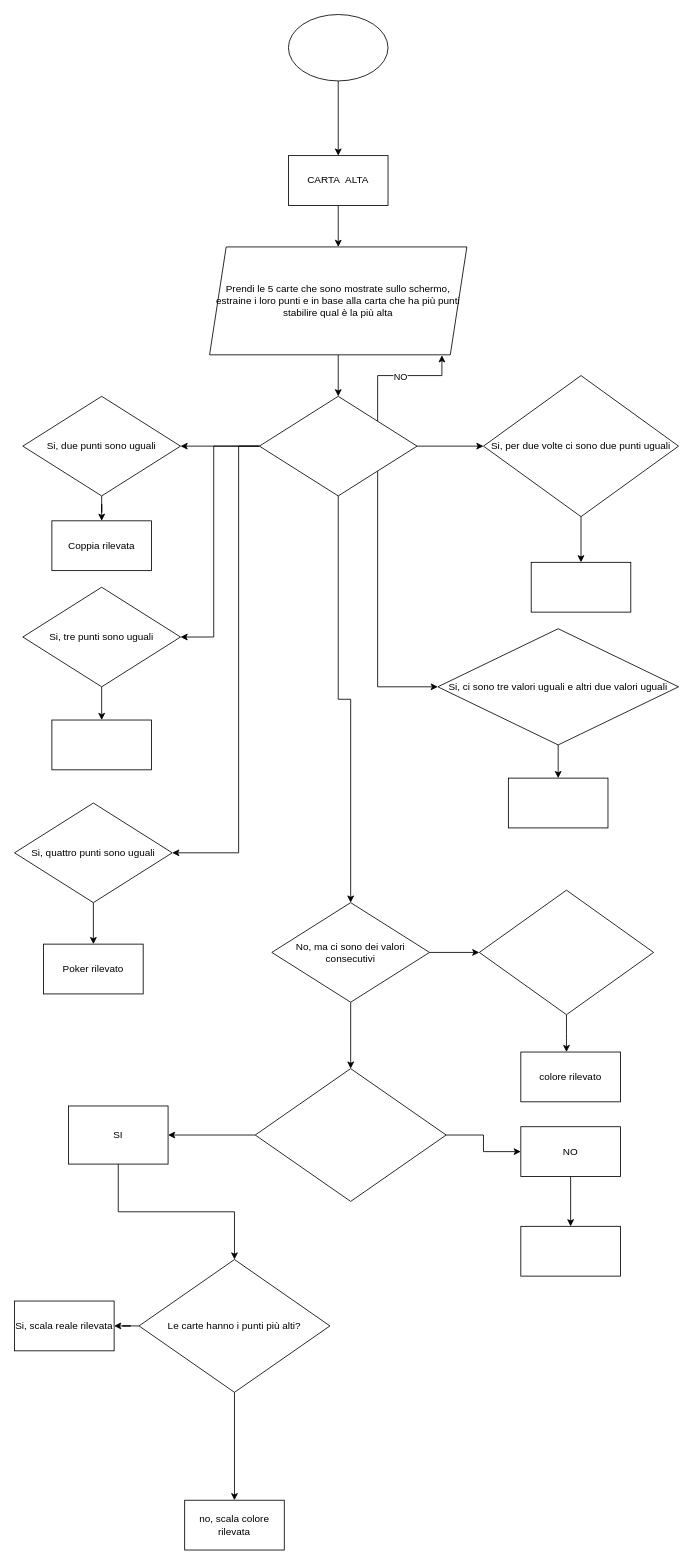
Some shapes in this 693 by 1565 pixel diagram are drawn without their labels. Each missing label, with the box of its shape:
Doppia coppia rilevata: (530, 561, 631, 612)
Full rilevato: (508, 777, 608, 828)
Le carte hanno più punti uguali?: (259, 395, 417, 496)
le carte hanno tutte lo stesso seme?: (254, 1068, 446, 1201)
No, ma hanno tutte lo stesso seme: (478, 889, 654, 1015)
scala rilevata: (520, 1225, 620, 1276)
START: (288, 14, 388, 81)
Tris rilevato: (51, 719, 151, 770)
